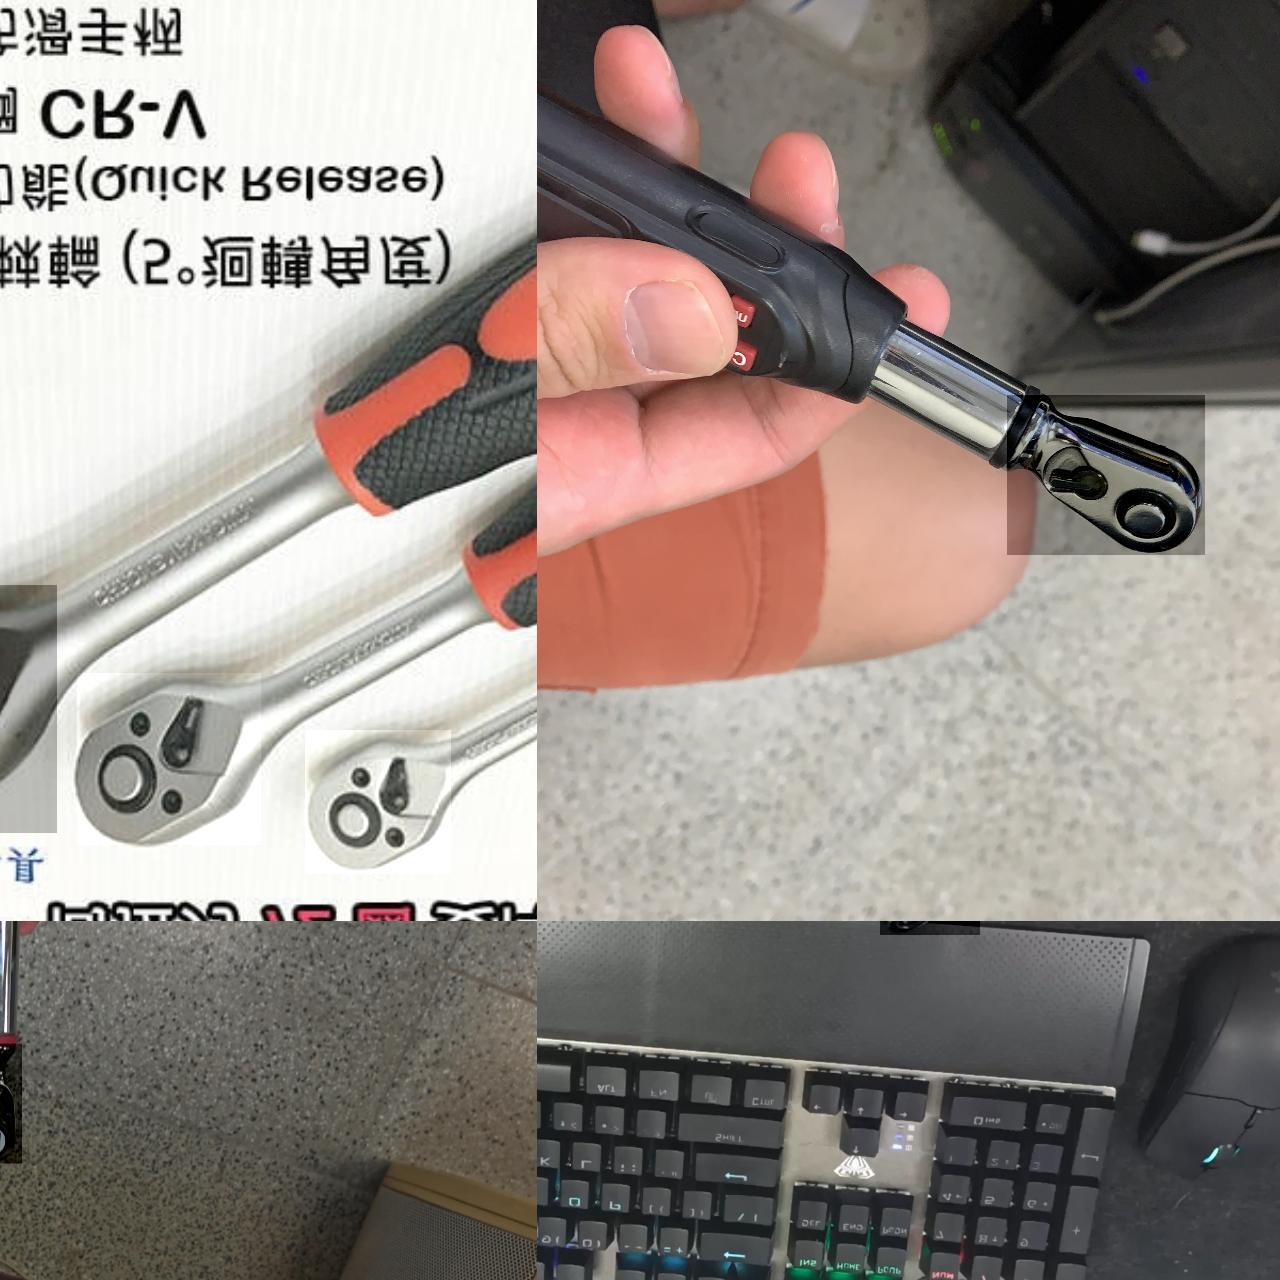Tool: (77, 673, 261, 845), (1007, 395, 1205, 554), (305, 730, 451, 874), (0, 585, 57, 833), (0, 1043, 22, 1163)
